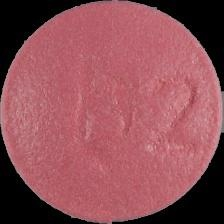54868-6044: (0, 0, 224, 224)
